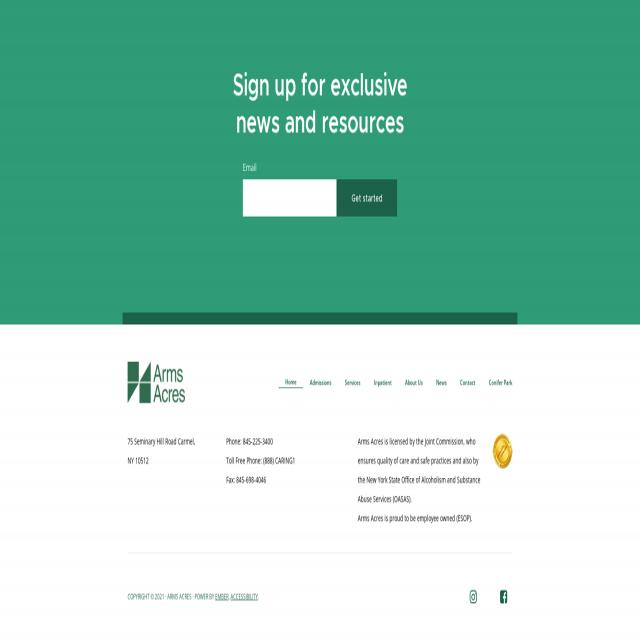button: (127, 362, 185, 403), (337, 180, 398, 217), (493, 432, 512, 470), (496, 586, 510, 608), (467, 586, 481, 608)
field: (243, 180, 336, 217)
